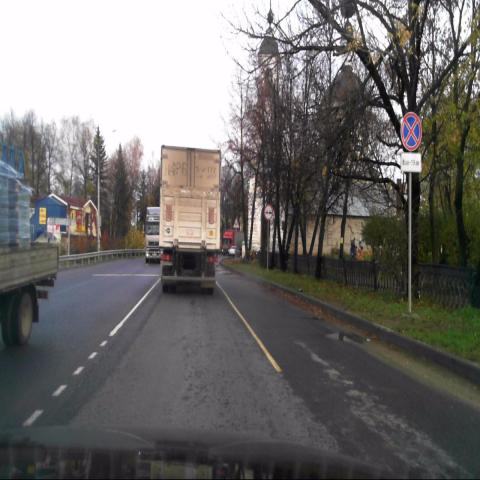8_5_4: (400, 153, 422, 172)
